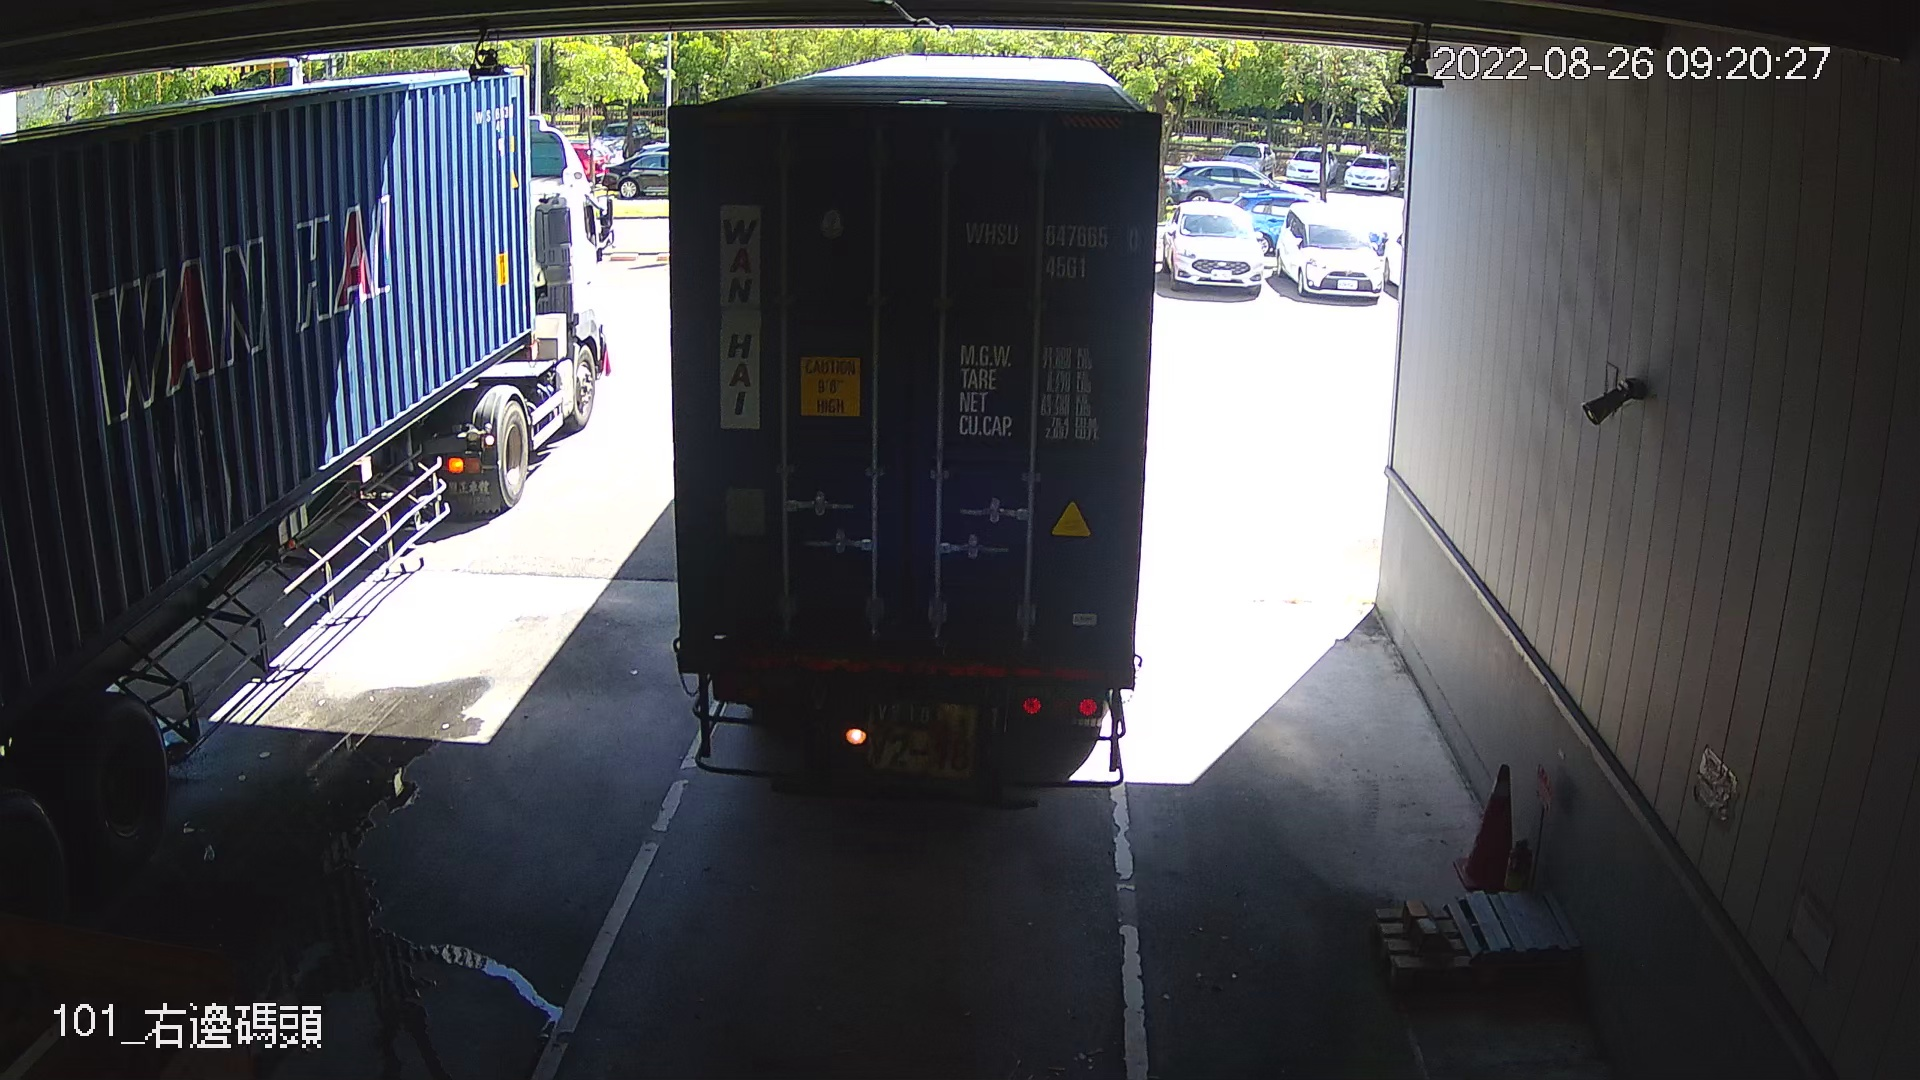container: (951, 214, 1150, 287)
